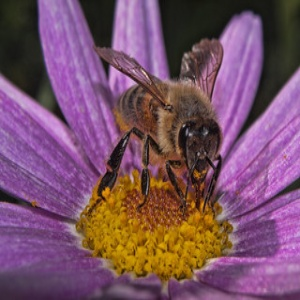bee: (93, 39, 231, 220)
